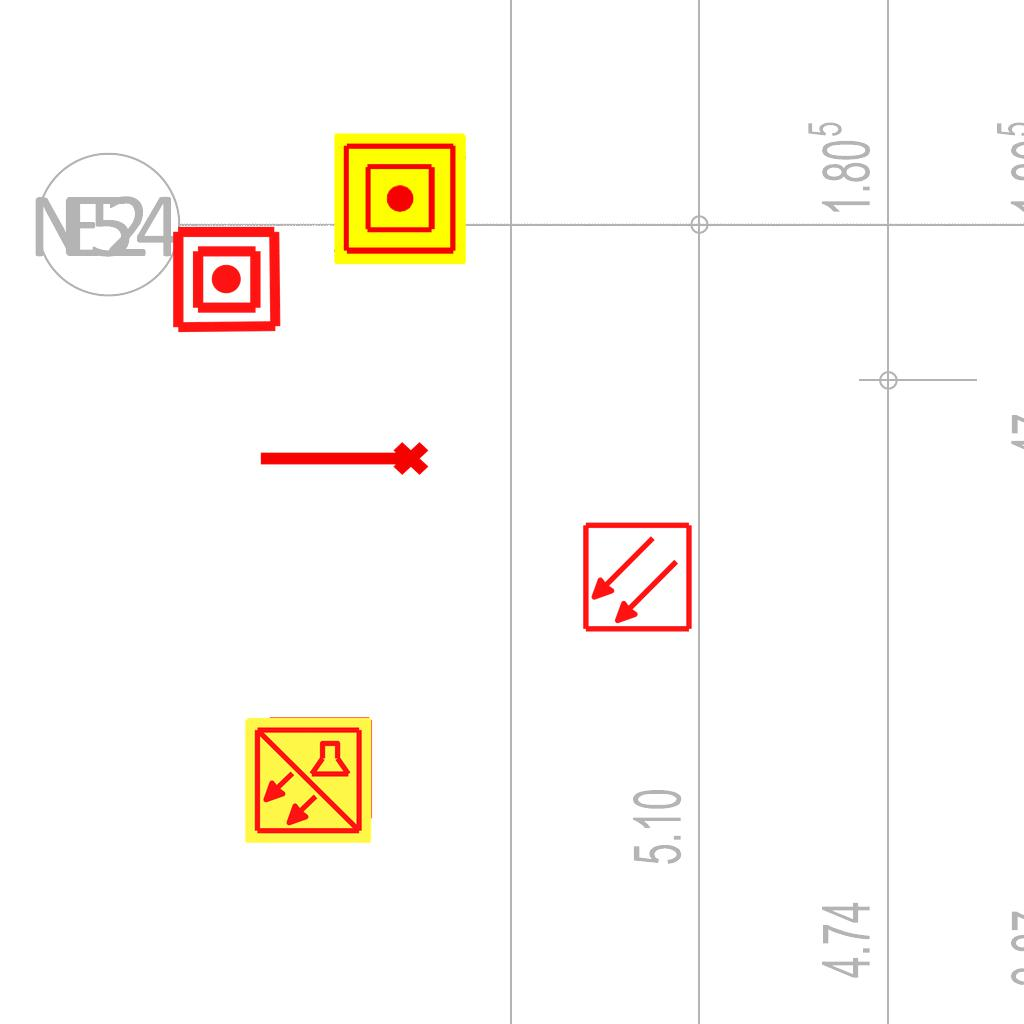ASR_Ansaugoeffnung: (255, 438, 431, 484)
NAM-Nichtautomatischer_Melder: (334, 133, 466, 265), (170, 223, 283, 336)
OKW_Multisensormelder_(Kombination_optischer_Rauch-Kahlenmonoxid_Waerme-Melder): (242, 714, 374, 846)
RMO_Rauchmelder_optischer: (581, 521, 694, 634)
